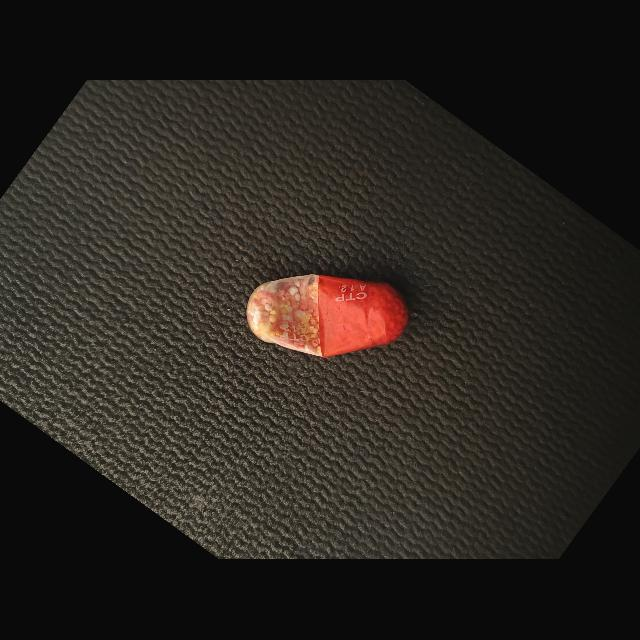Defective Capsule: (247, 274, 408, 359)
